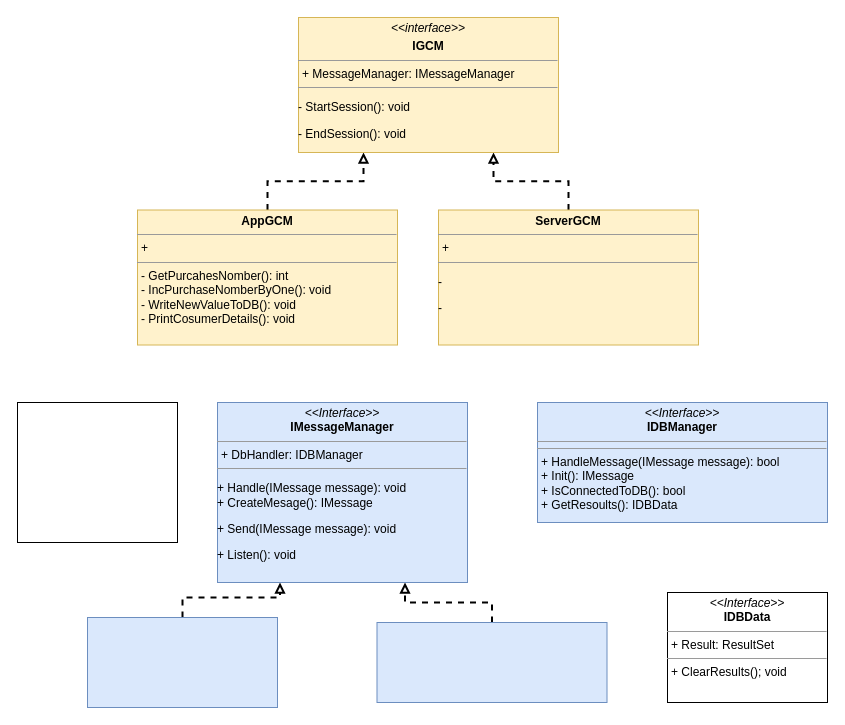
Some shapes in this 845 by 725 pixel diagram are drawn without their labels. The shapes that lost their labels are listed below. From the top down, each one's centre as x and y in pixels, then its label:
the point at 97,472: <<Interface>> IMessage + Content: String + MessageID: Int + ToString: String
the point at 182,662: ClientMessageManager + Chat: ClientChat + Console :ClientConsole
the point at 491,662: ServerMessageManager - Echo: EchoServer - Server: ServerConsole
